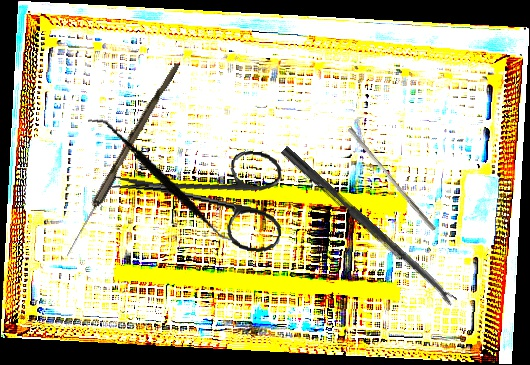Iris Scissors: (104, 134, 291, 255)
Pusher: (344, 126, 440, 232)
Spatula Surgical: (70, 116, 255, 246)
Surgical Spoon: (279, 145, 458, 308), (63, 60, 180, 259)
